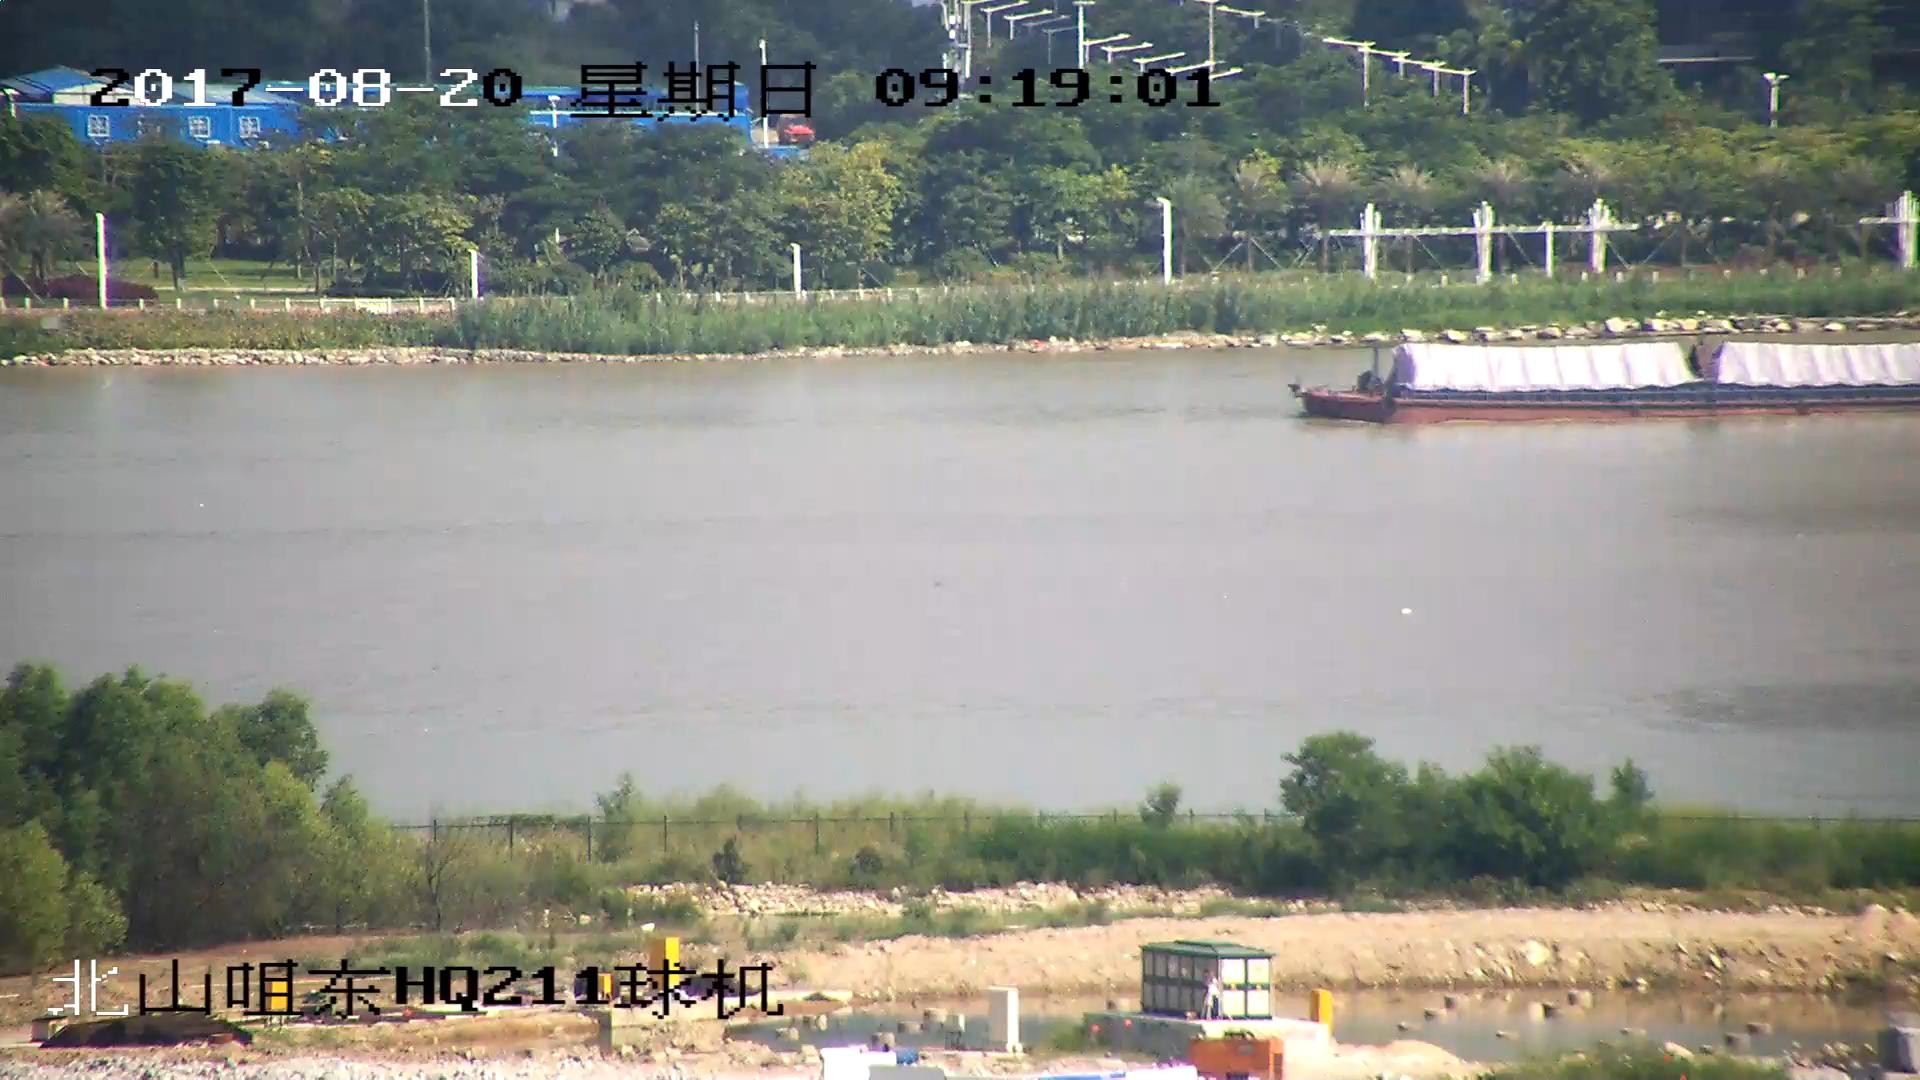general cargo ship: (1297, 330, 1920, 427)
